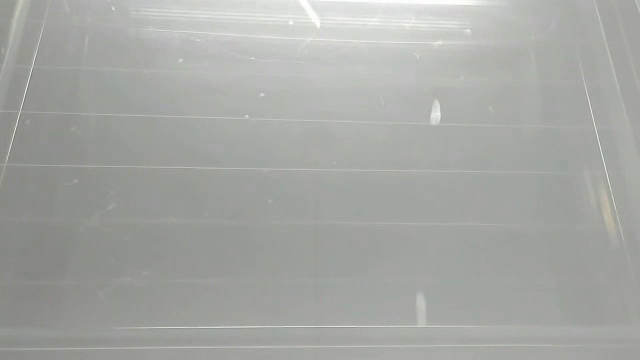alpha: (411, 286, 435, 335), (298, 1, 323, 30), (425, 94, 446, 128)
